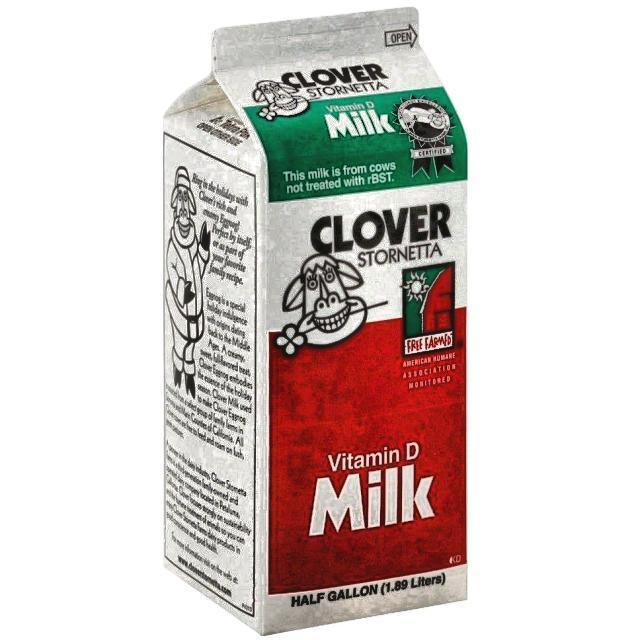cardboard: (162, 5, 470, 636)
